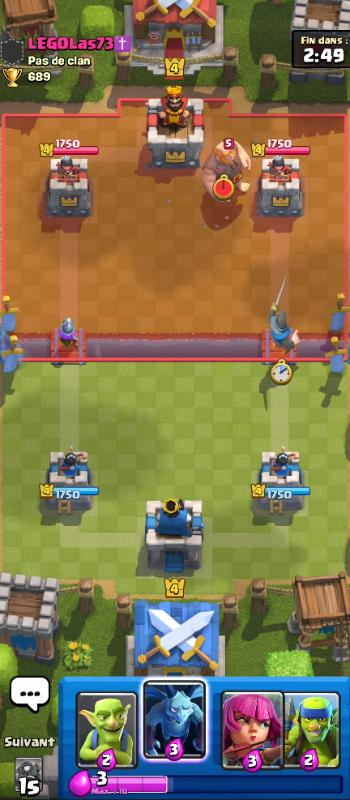chevalier: (266, 273, 301, 360)
geant: (202, 131, 254, 204)
mousquetaire: (53, 313, 85, 358)
